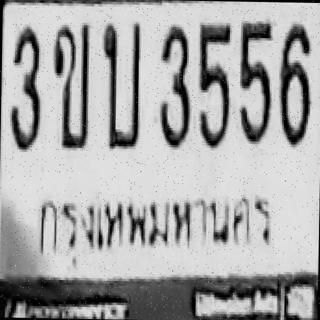A02: (50, 22, 89, 148)
A26: (99, 21, 142, 149)
N03: (156, 24, 192, 148), (7, 25, 41, 150)
N05: (237, 19, 272, 145), (197, 22, 231, 148)
N06: (278, 21, 311, 147)
P04: (28, 187, 280, 258)
